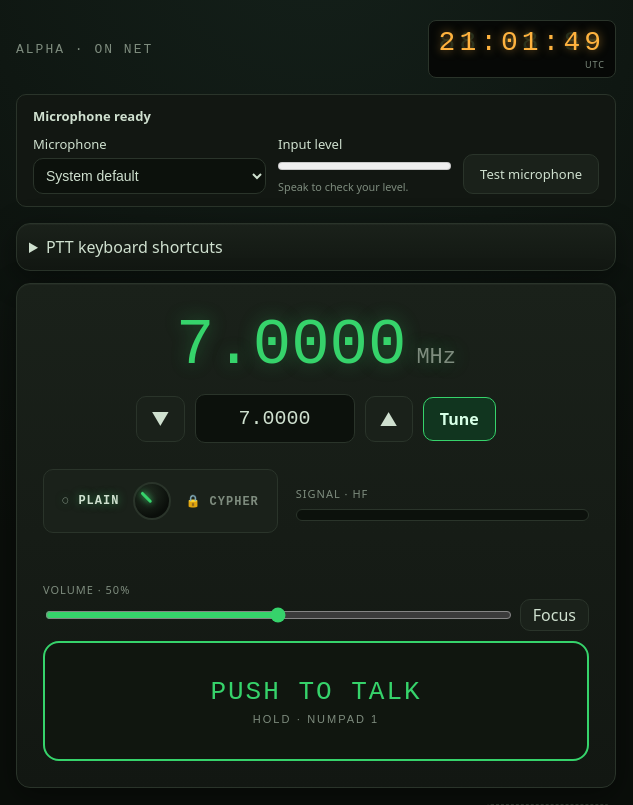
Radio › steps up and down by the band's increment
The width and height of the screenshot is (633, 805).
Click the button named "Increase frequency on ALPHA" at (389, 418), box [364,396,413,442]
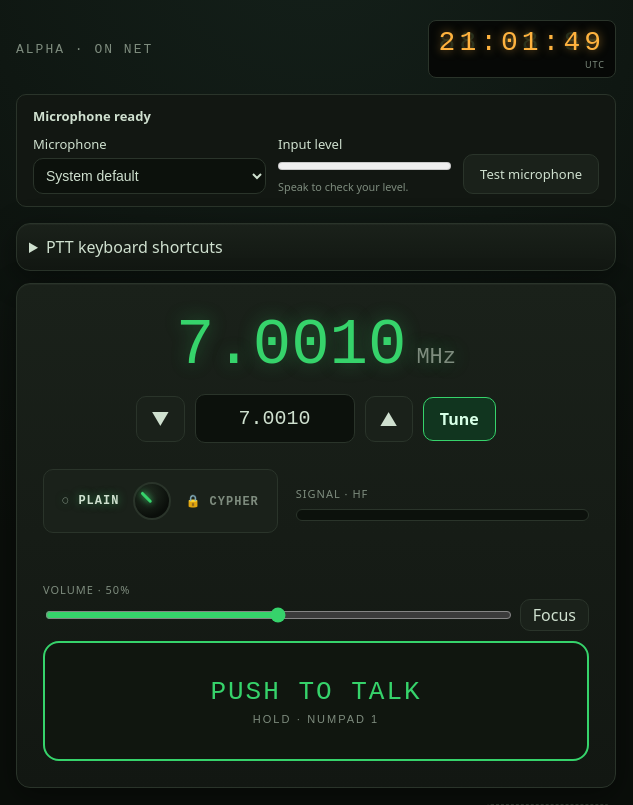
Expected: the text "7.0010" is shown, [176,310,406,382]
Click the button named "Decrease frequency on ALPHA" at (160, 418), box [136,396,184,442]
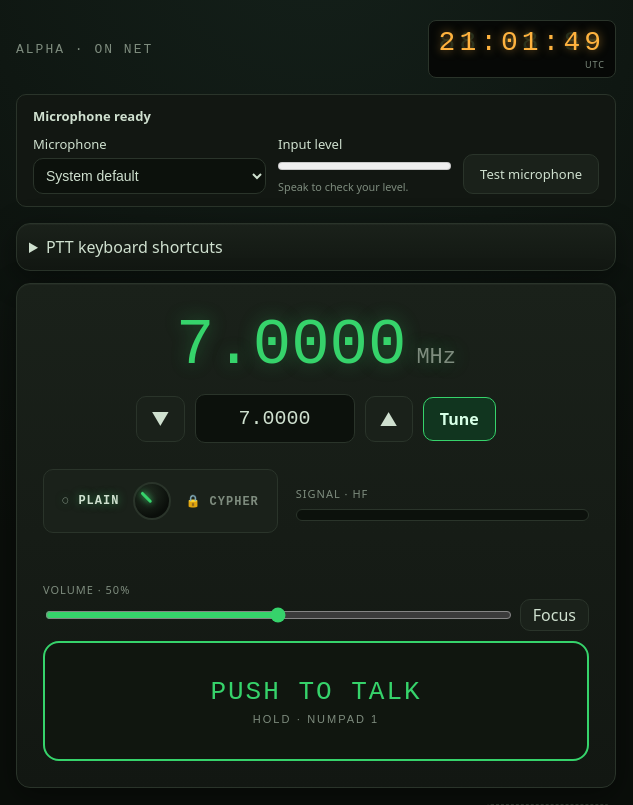
Click the button named "Decrease frequency on ALPHA" at (160, 418), box [136,396,184,442]
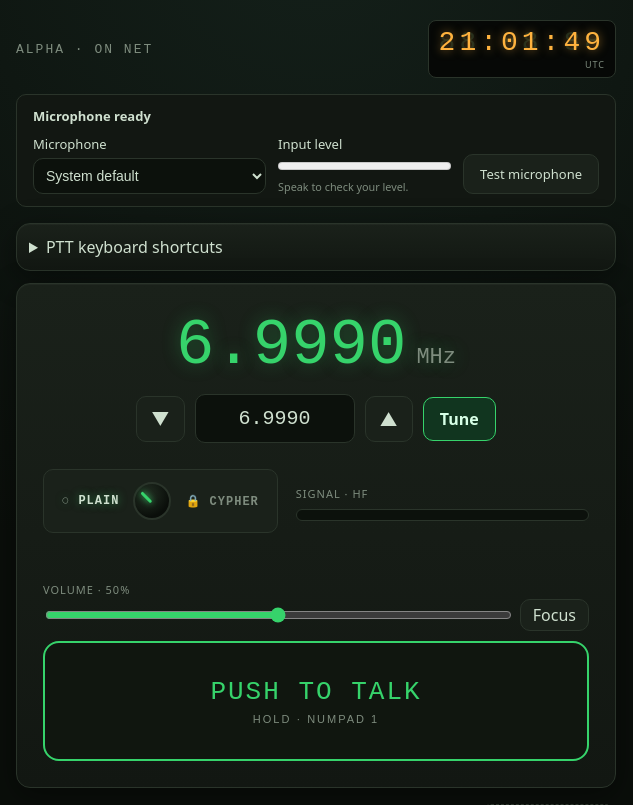
Expected: the text "6.9990" is shown, [176,310,406,382]
